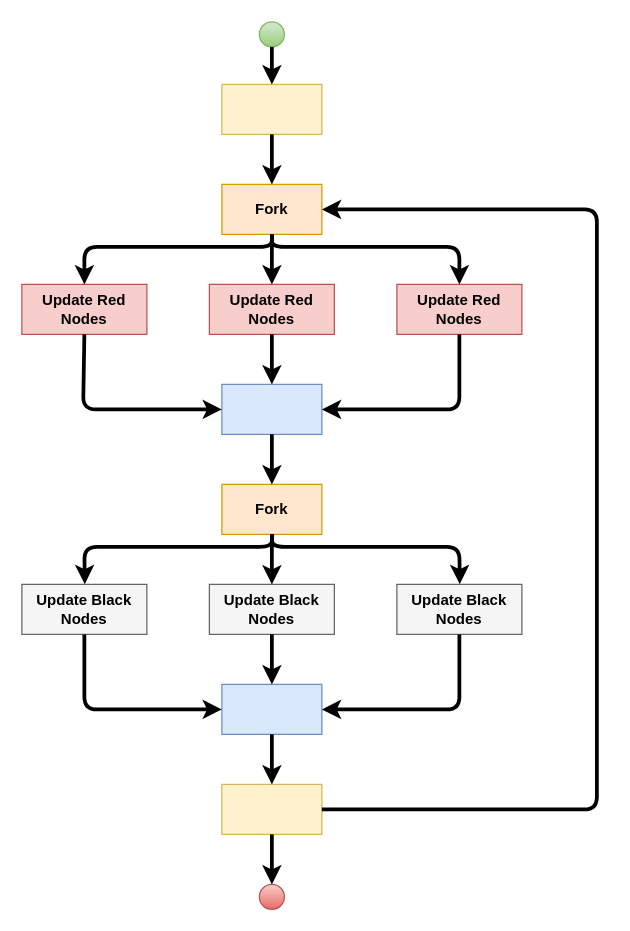
This 630x931 diagram has some shape labels left out. Here are the shapes that lost their labels. From the top down, the centre of each, then its label:
At (x=271, y=108): "Generate Grid".
At (x=271, y=408): "Synchronize and Join".
At (x=271, y=708): "Join".
At (x=271, y=808): "Check Error".
